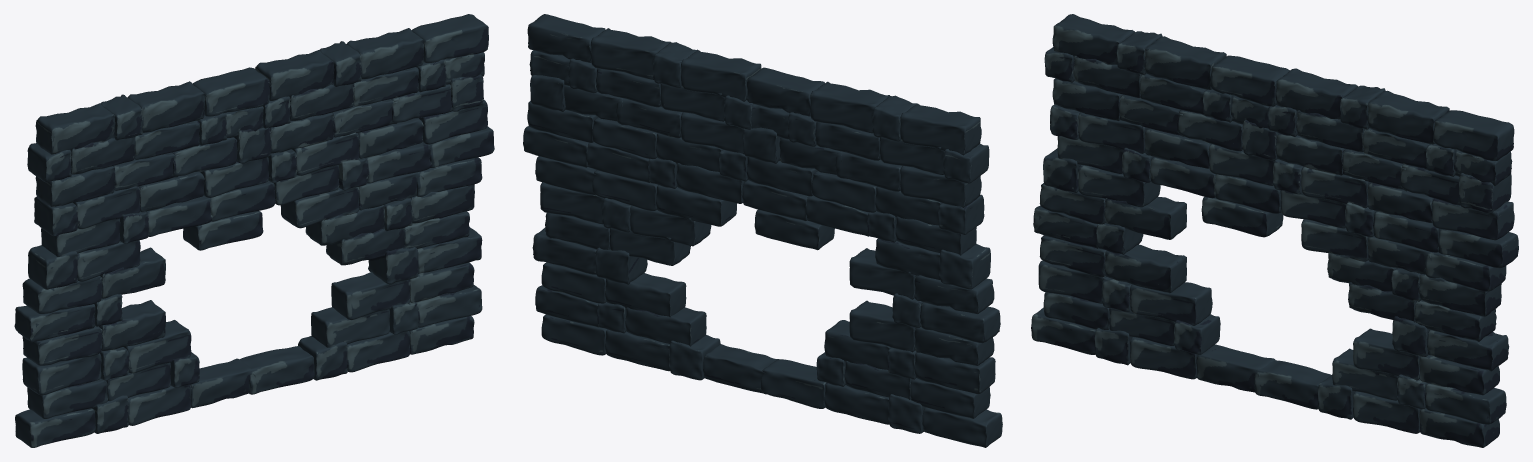
File: Wall Hole.glb
3 views of the same model, side by side, from view 1: azimuth 30°, elevation 25°; view 2: azimuth 150°, elevation 25°; view 3: azimuth 330°, elevation 25° (orthographic).
Parts seen in each view (by area): view 1: Object008; view 2: Object008; view 3: Object008.
Part boxes in pixels (left/top/right/bottom): Object008: left=14, top=14, right=494, bottom=447; Object008: left=523, top=14, right=1002, bottom=447; Object008: left=1031, top=14, right=1518, bottom=447.
Size of the model in its own units: 3.47 by 2.27 by 0.2821.
1 material, 1 textured.
